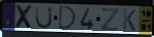4: (79, 7, 96, 31)
D: (57, 5, 78, 31)
K: (122, 8, 137, 33)
U: (35, 5, 54, 30)
X: (14, 4, 35, 30)
Z: (100, 8, 120, 32)
